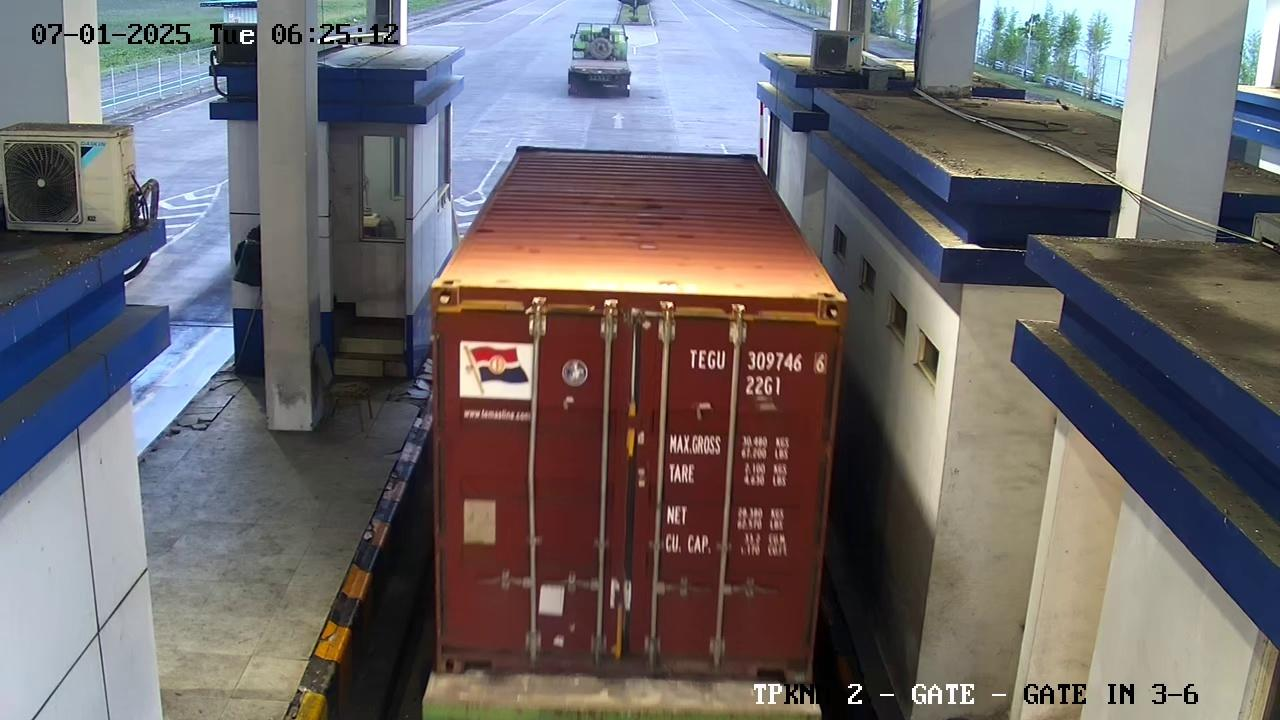Container_ID: (678, 336, 835, 408)
